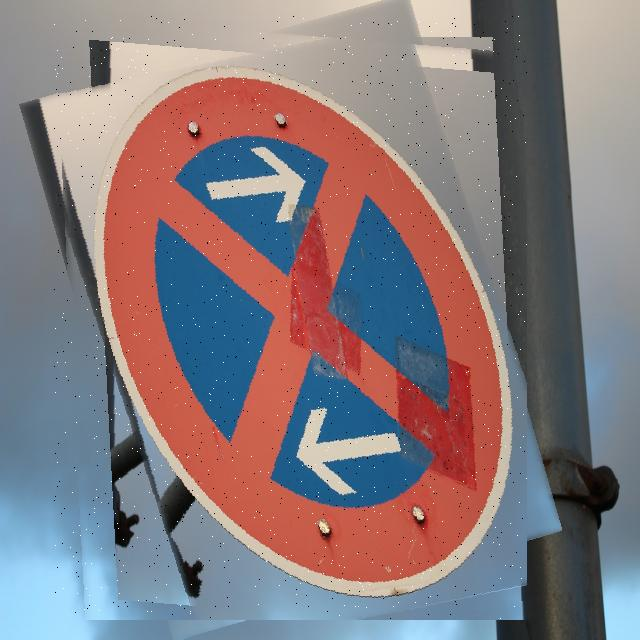no stopping: (54, 15, 527, 620)
